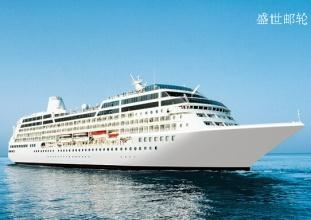youlun: (5, 77, 304, 169)
